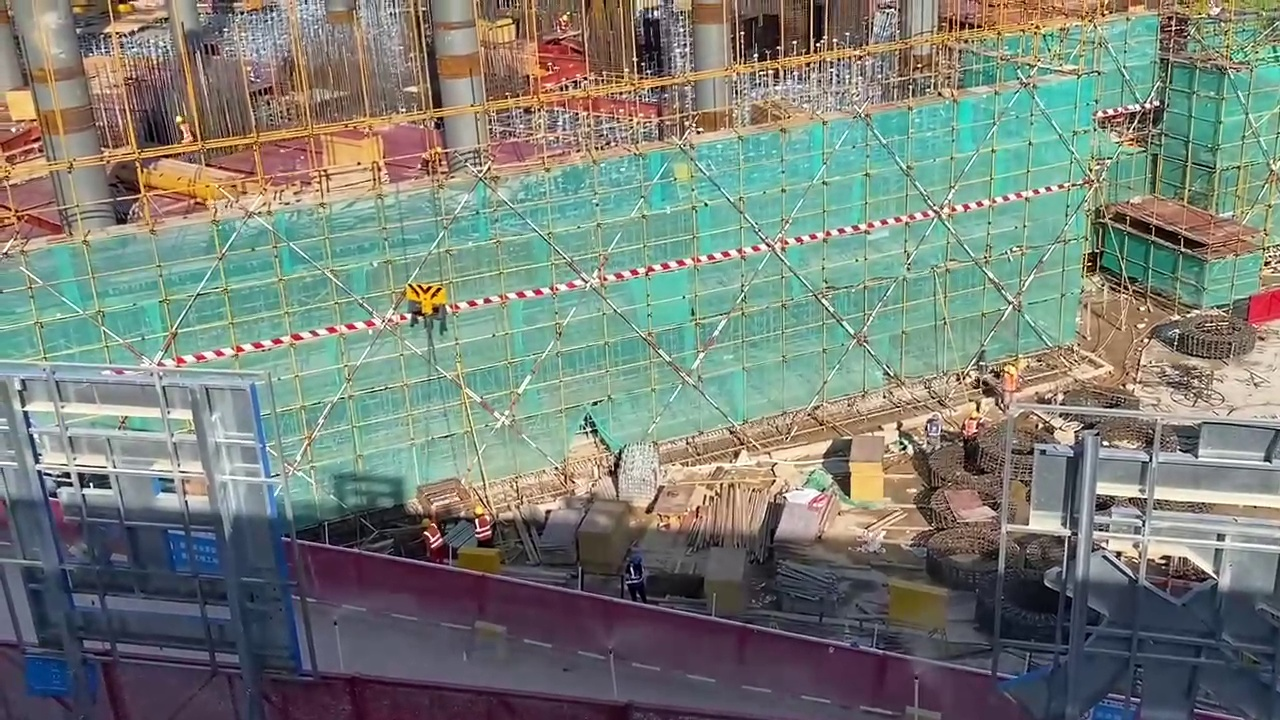person: (621, 555, 651, 602), (475, 507, 496, 557), (420, 516, 441, 565), (998, 362, 1020, 408), (957, 409, 980, 439), (921, 410, 940, 443)
vest: (474, 515, 493, 540), (423, 525, 442, 549)
